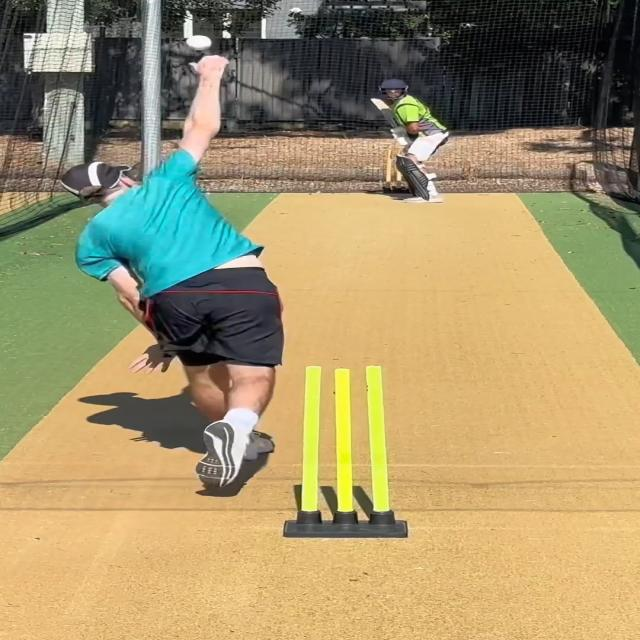ball: (181, 32, 216, 55)
stump: (281, 360, 408, 538)
